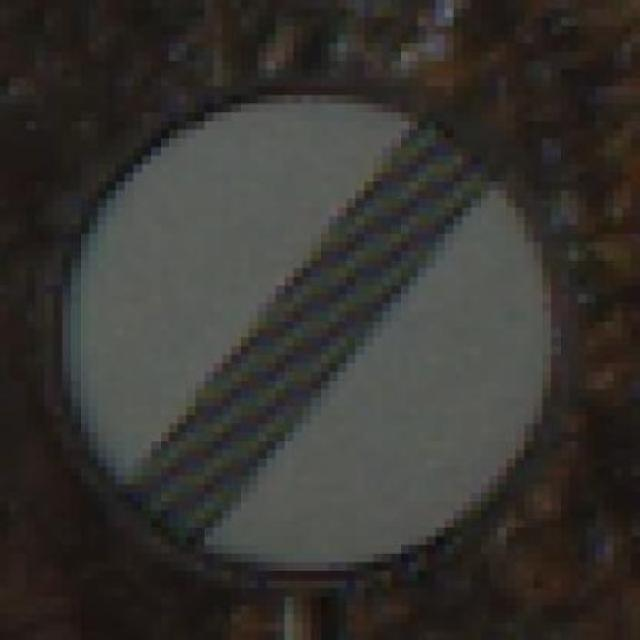End of all speed and passing limits: (55, 92, 562, 577)
